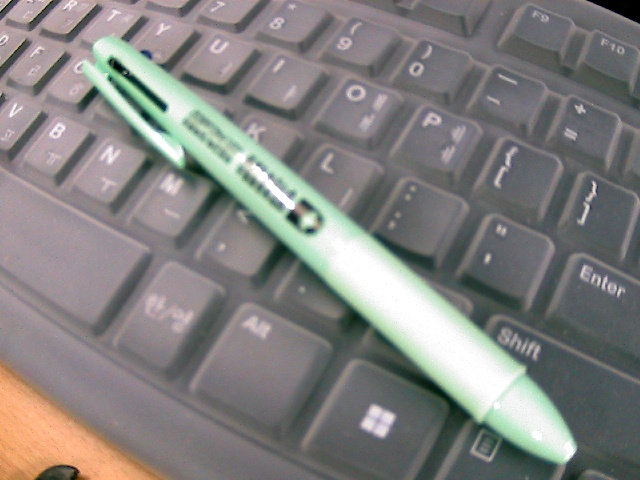pen: (85, 37, 593, 462)
